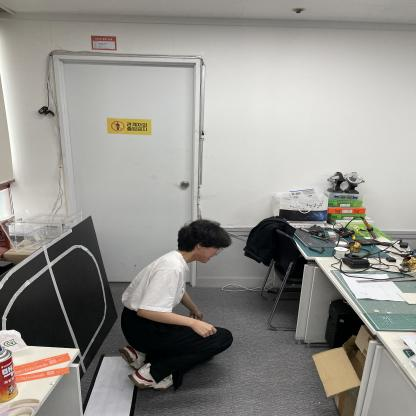fall: (124, 217, 233, 392)
